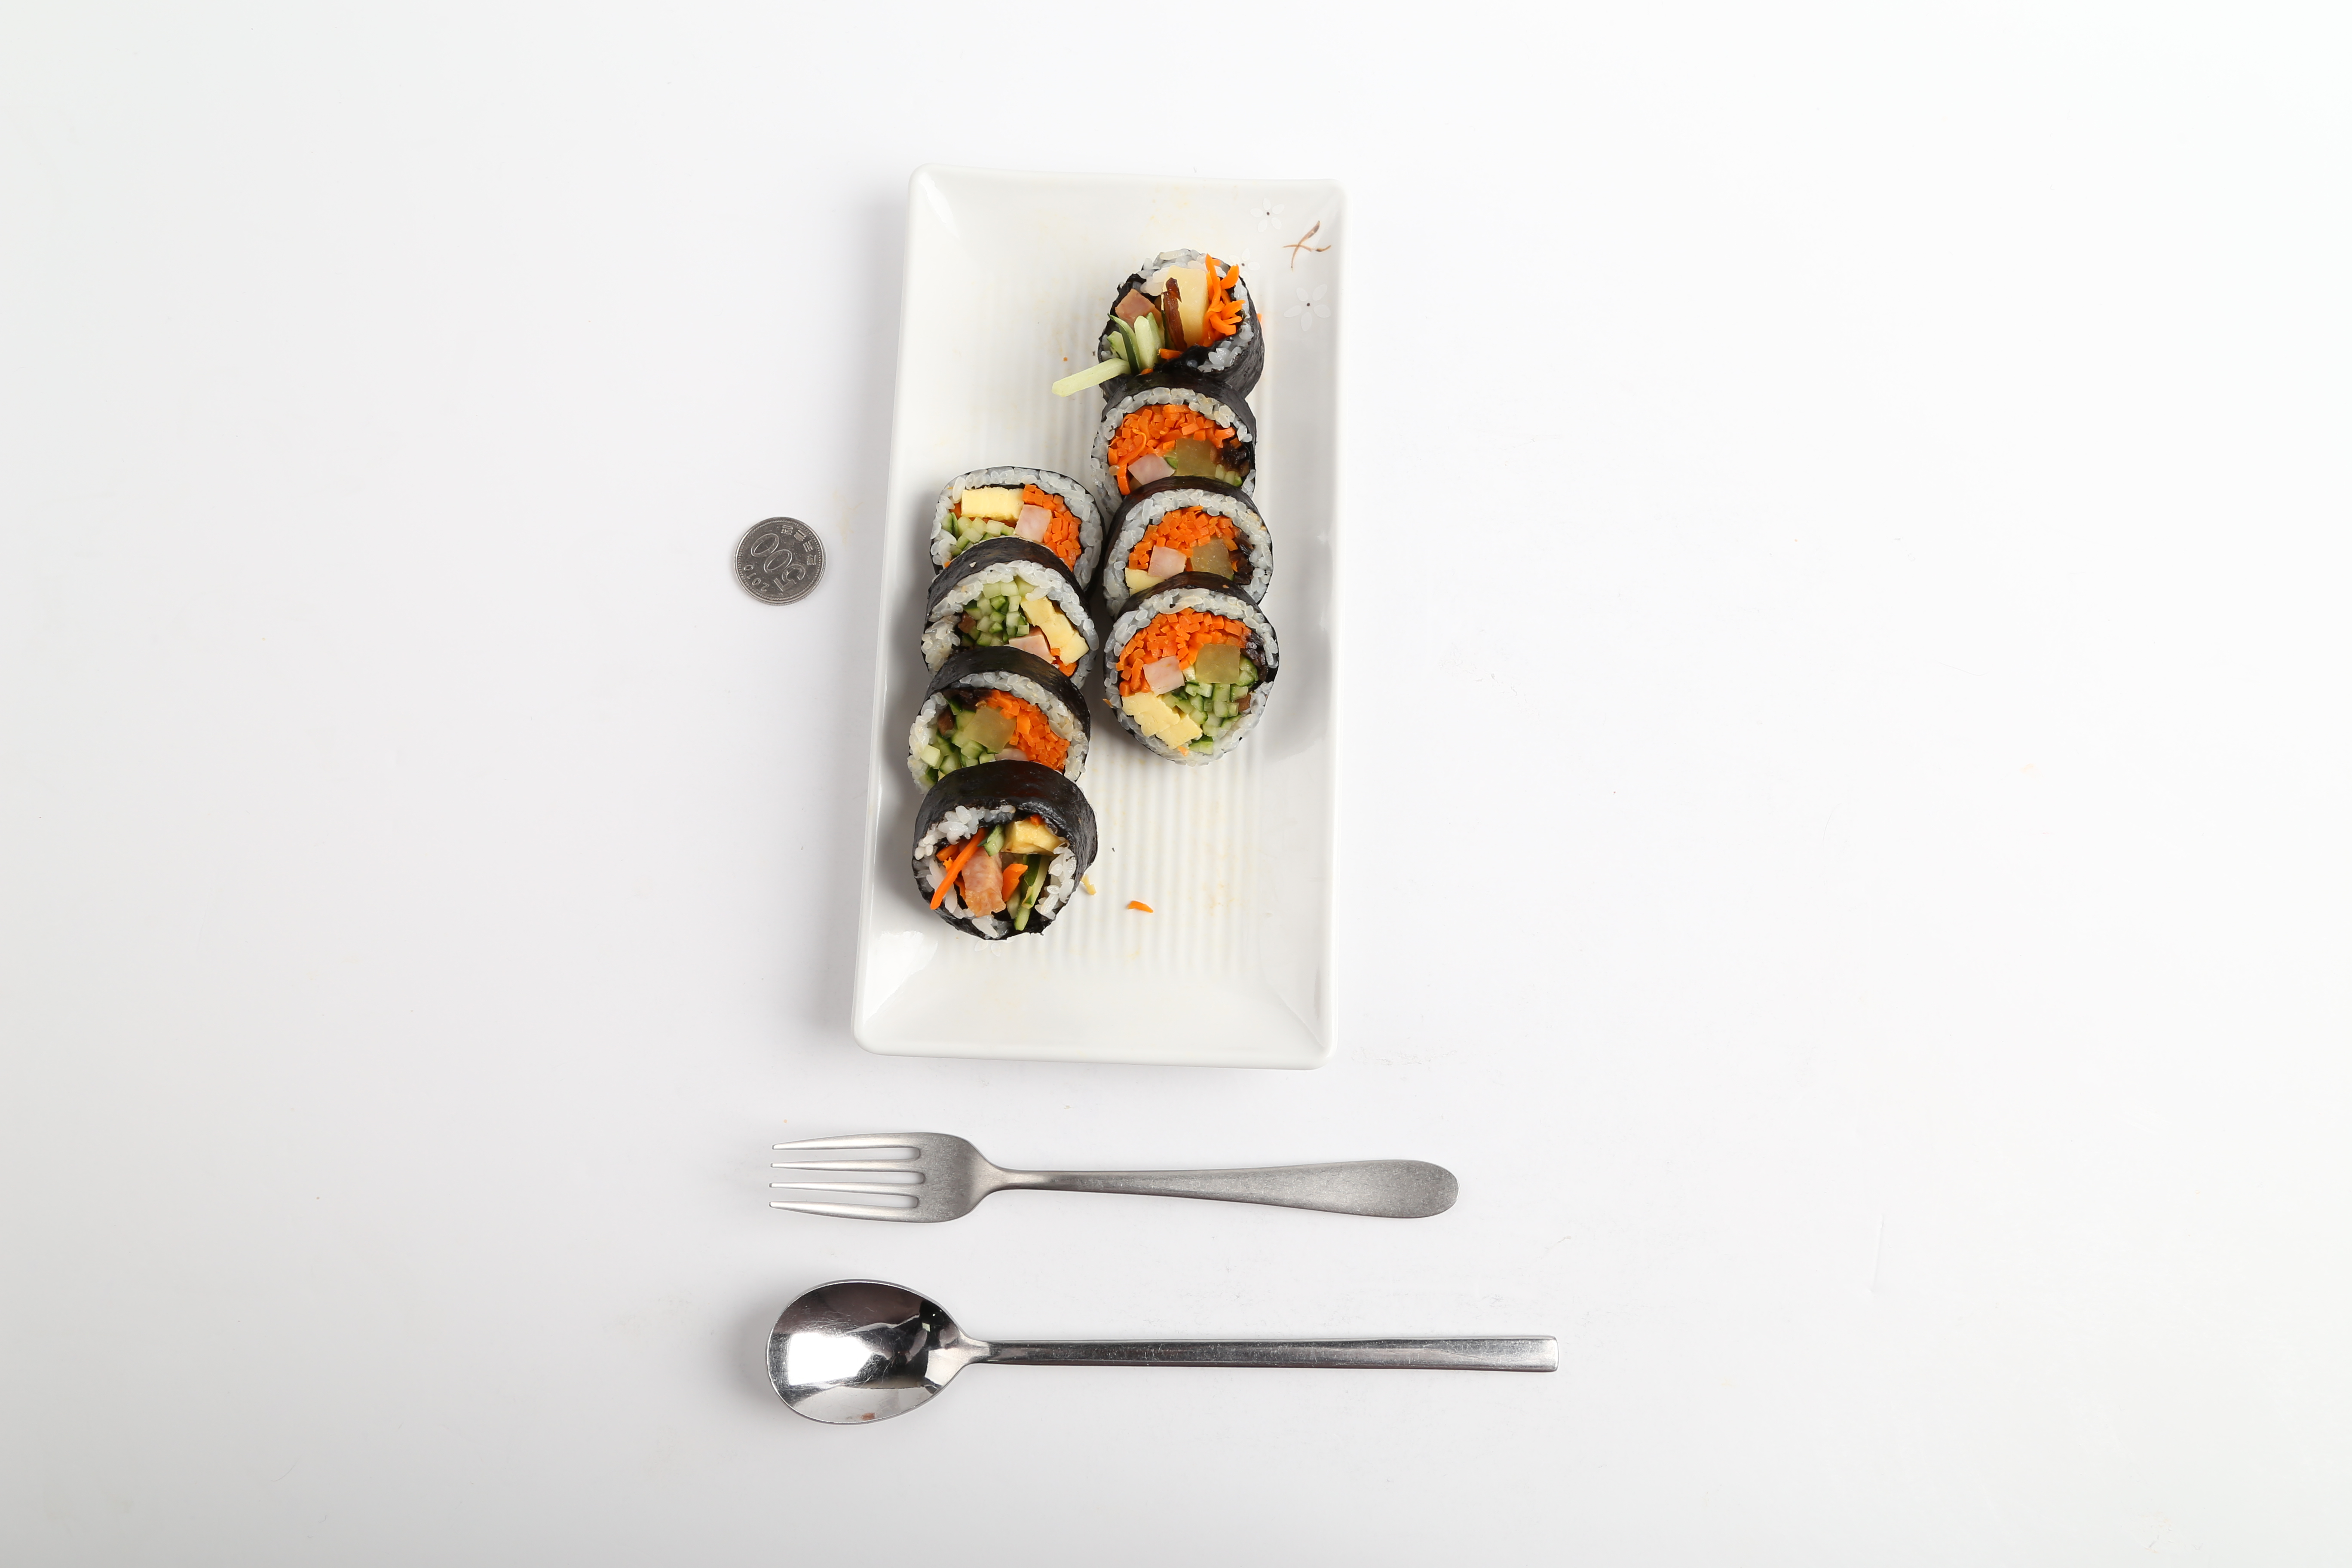dish: (845, 164, 1381, 1074)
ref_coin: (724, 507, 829, 611)
ref_fork: (763, 1127, 1066, 1228)
ref_spoon: (759, 1274, 1050, 1431)
김밥: (898, 240, 1283, 941)
